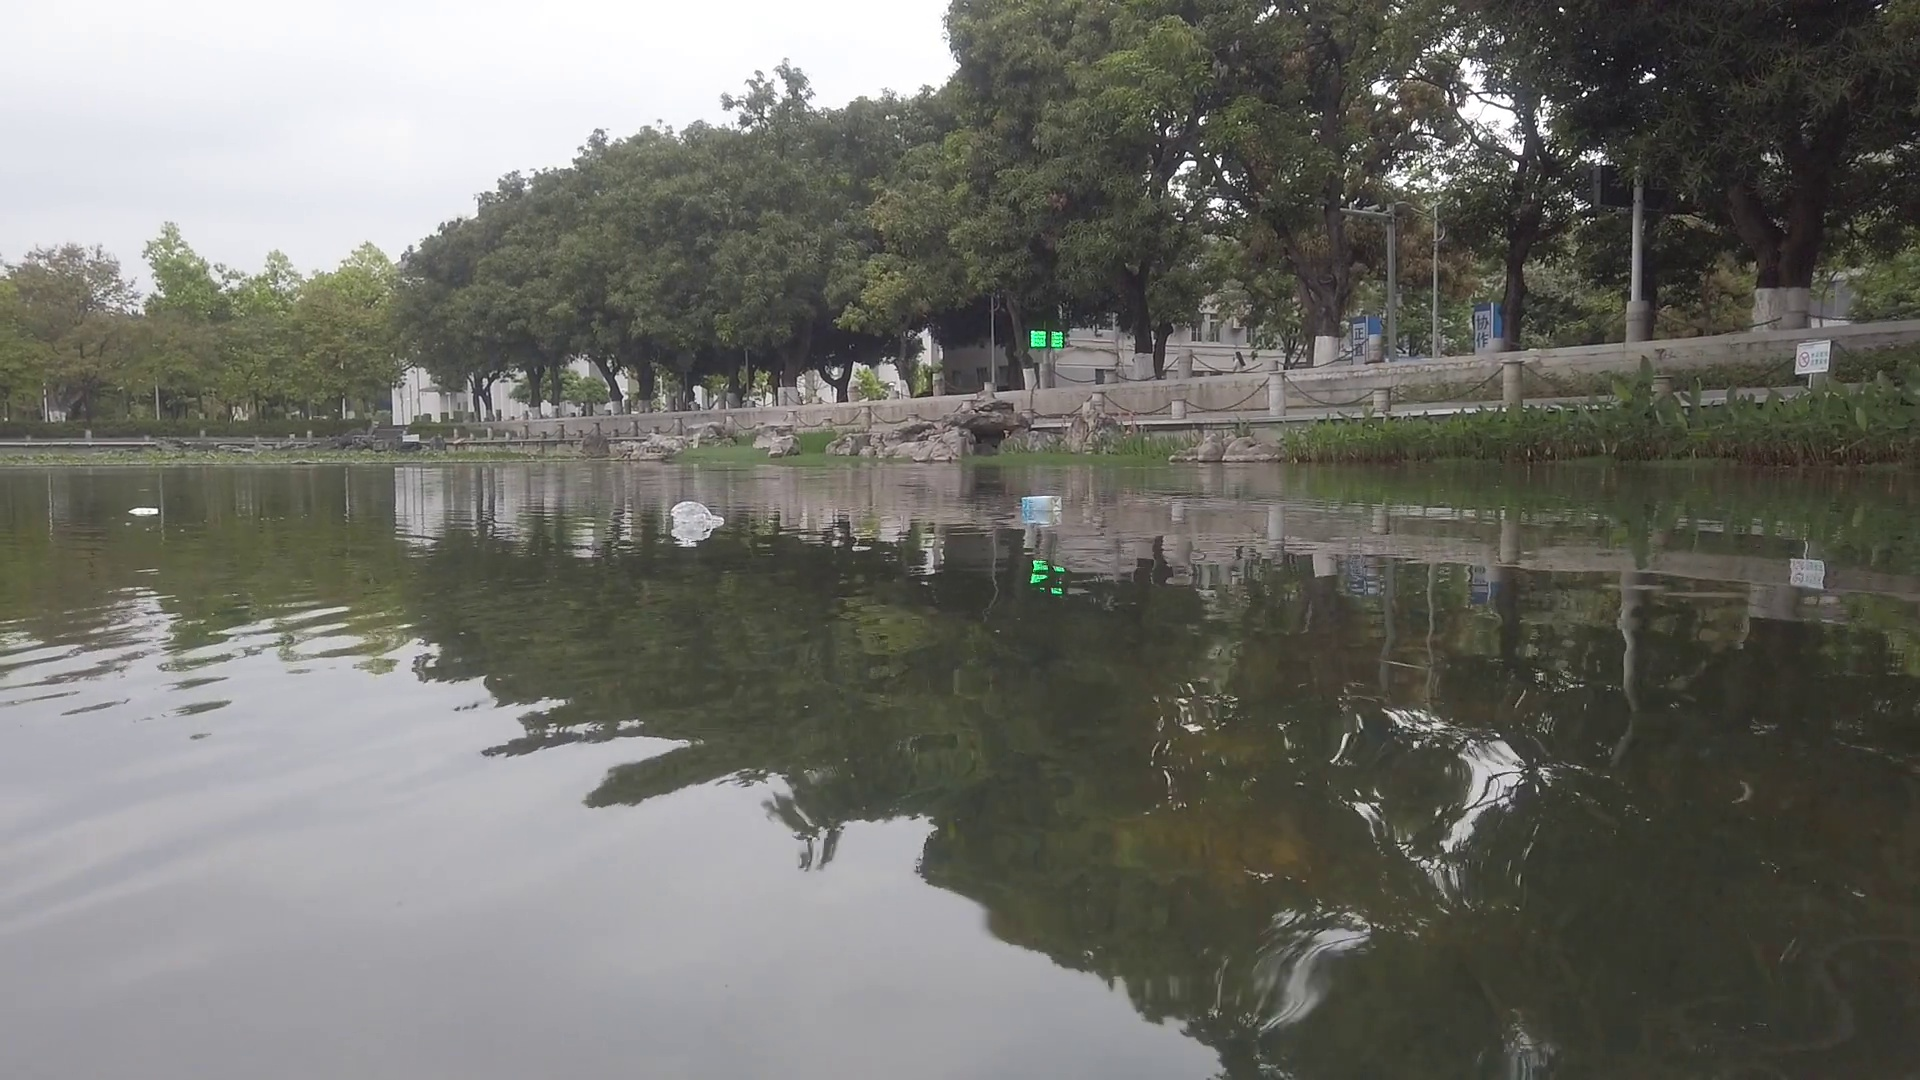carton: (1019, 495, 1065, 512)
paper: (131, 505, 160, 516)
plastic: (670, 502, 725, 533)
